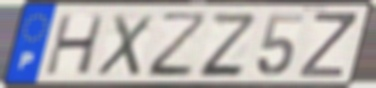5: (255, 12, 307, 78)
H: (42, 12, 108, 77)
X: (93, 11, 156, 78)
Z: (146, 10, 211, 80), (295, 10, 359, 80), (197, 11, 257, 79)
